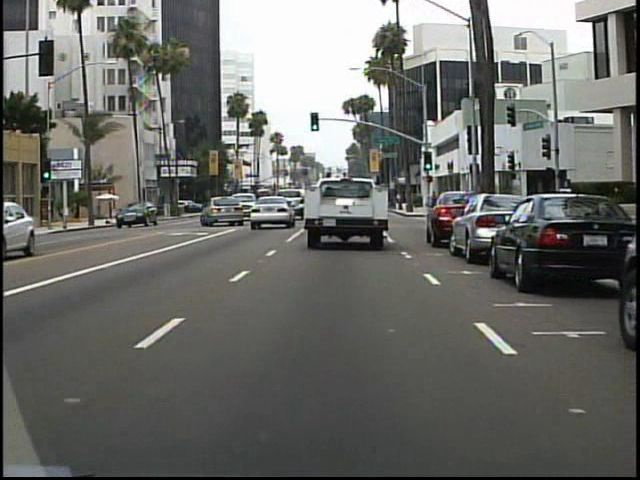person: (427, 188, 441, 217)
